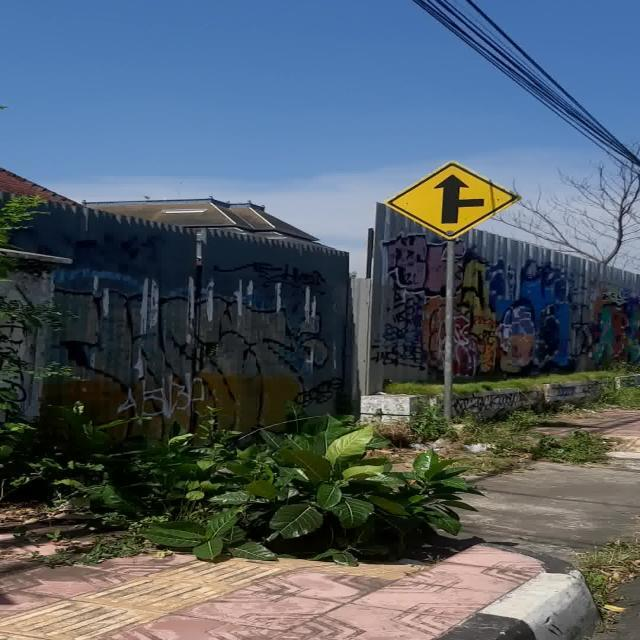Persimpangan 3 Prioritas Kanan: (384, 160, 521, 240)
